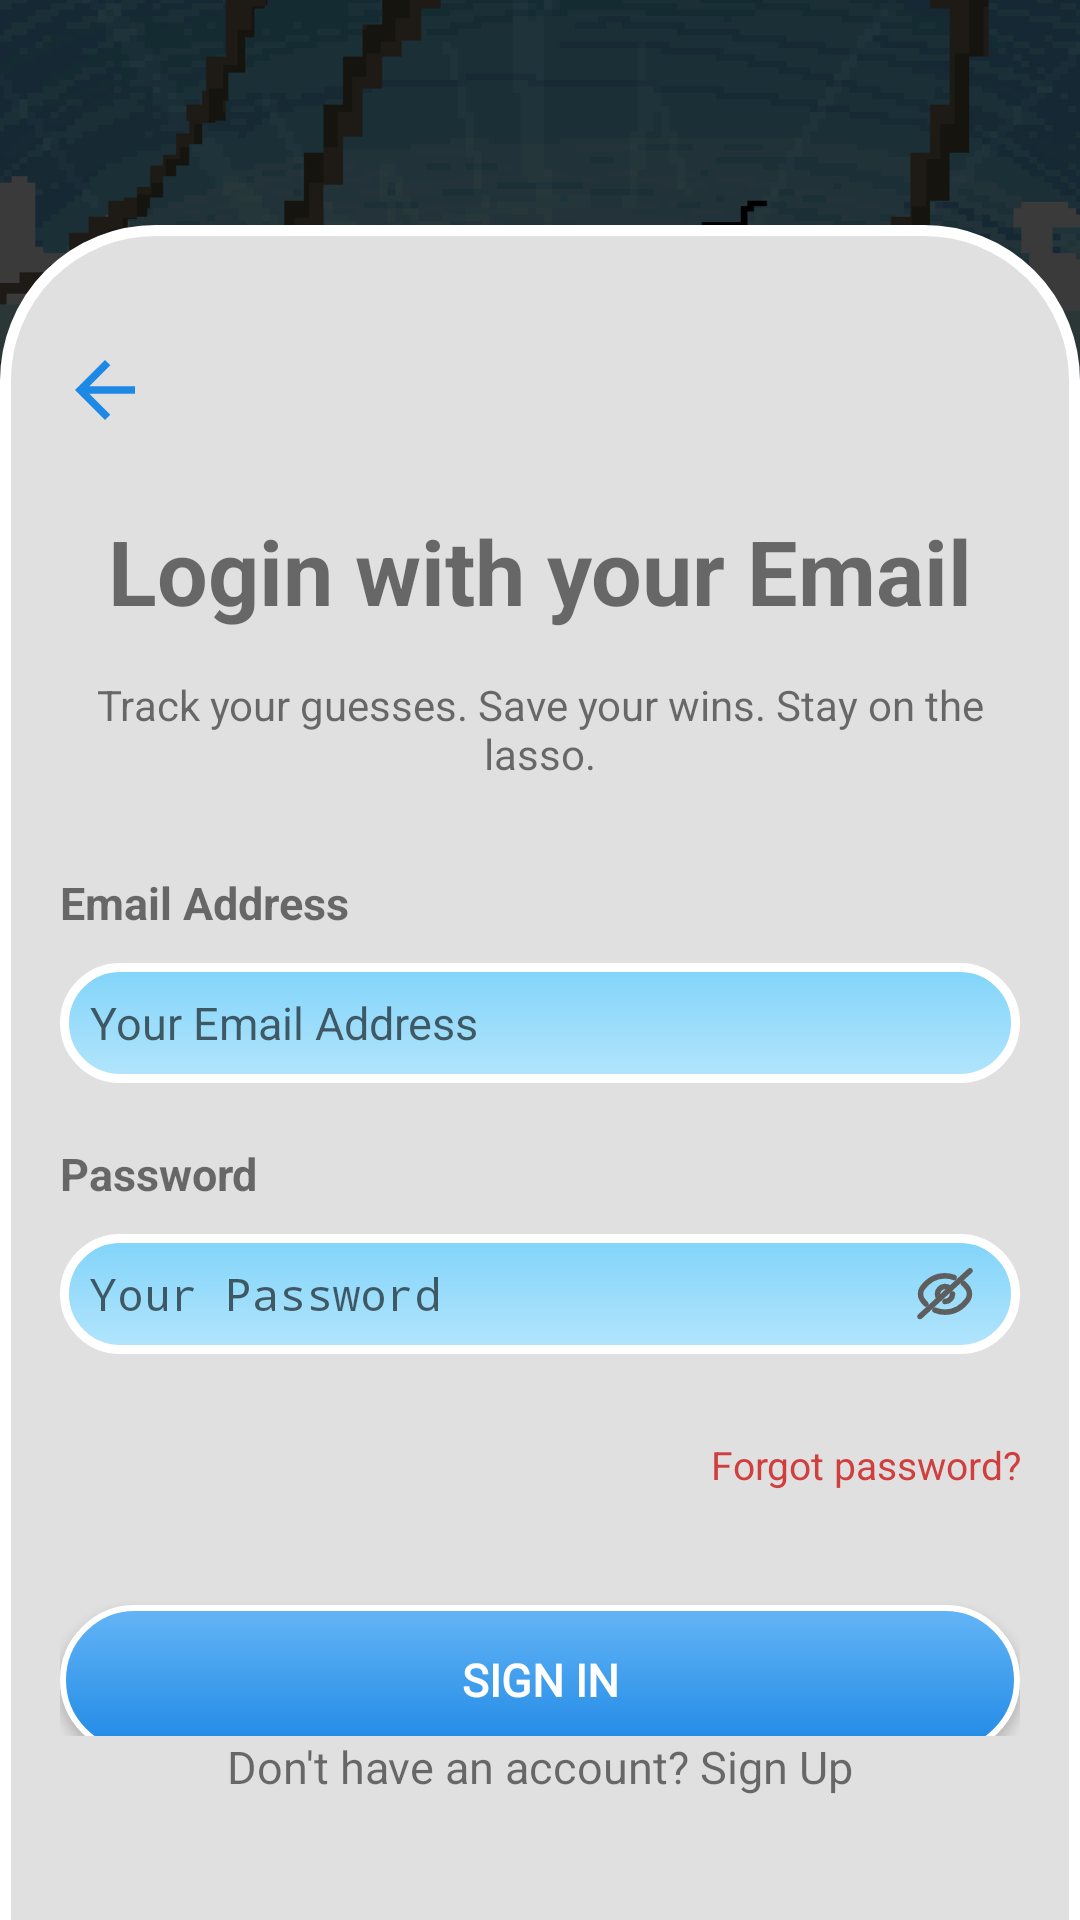

Screen size 1080px×1920px. Icon name, then its center in pixels as (x,y):
eye close: (945,1294)
